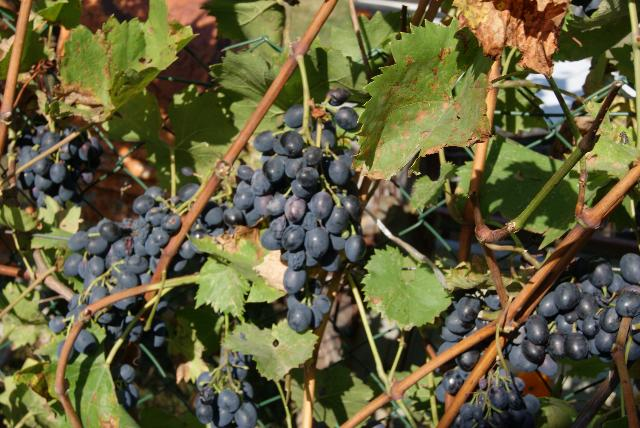grapes: (232, 90, 366, 332), (509, 254, 640, 375), (64, 190, 180, 320), (18, 131, 104, 206), (451, 368, 540, 428), (195, 349, 258, 428), (439, 296, 489, 354), (18, 125, 78, 166), (435, 349, 480, 401)
